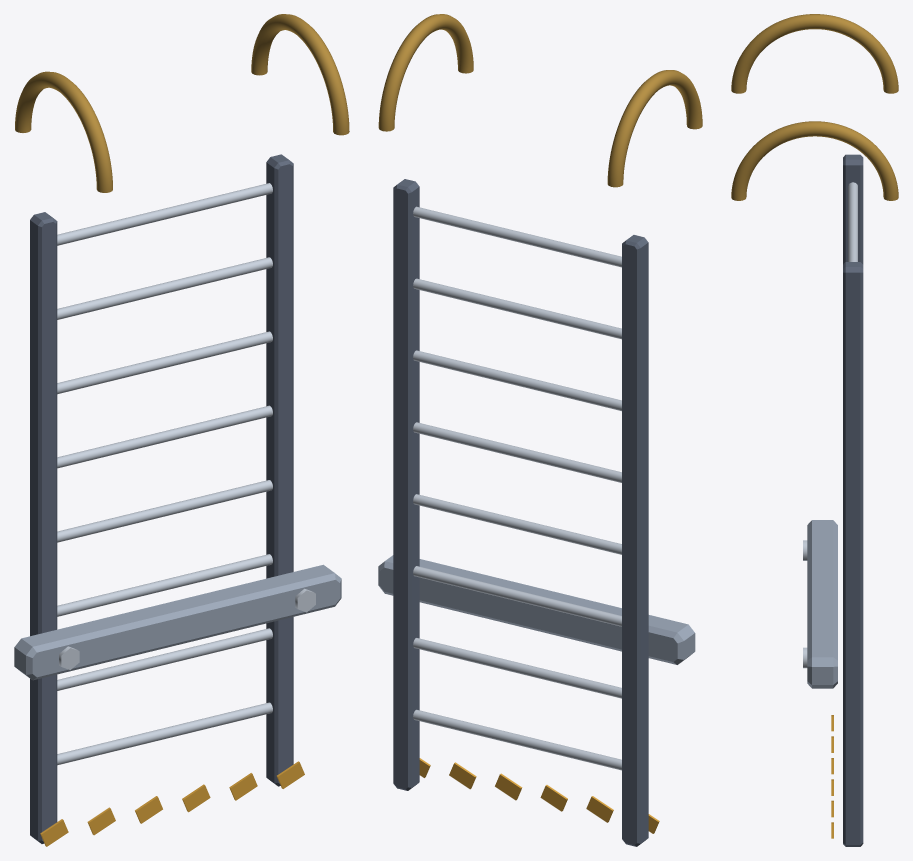
Rendered from shared_ladder_250.glb.
The picture shows the model from 3 angles, left to right: view 1: azimuth 30°, elevation 25°; view 2: azimuth 150°, elevation 25°; view 3: azimuth 270°, elevation 25°; orthographic projection. The views are drawn at different scales.
Visible parts, largest first — view 1: ladder_stringer-1, ladder_stringer1, ladder_flange0, ladder_hook1, ladder_hook-1, ladder_foot_hazard, ladder_rung4, ladder_rung2, ladder_rung3, ladder_rung7, ladder_rung0, ladder_rung1 (+3 smaller); view 2: ladder_stringer-1, ladder_stringer1, ladder_flange0, ladder_hook1, ladder_hook-1, ladder_rung2, ladder_rung0, ladder_rung1, ladder_rung3, ladder_rung7, ladder_rung6, ladder_rung4 (+2 smaller); view 3: ladder_stringer1, ladder_flange0, ladder_hook1, ladder_hook-1, ladder_stringer-1, ladder_rung7.
Boxes of the visible parts, x1=… form: ladder_stringer-1: x1=30, y1=212, x2=57, y2=843; ladder_stringer1: x1=266, y1=154, x2=293, y2=786; ladder_flange0: x1=14, y1=564, x2=341, y2=680; ladder_hook1: x1=251, y1=14, x2=349, y2=135; ladder_hook-1: x1=15, y1=71, x2=112, y2=192; ladder_foot_hazard: x1=40, y1=761, x2=304, y2=846; ladder_rung4: x1=57, y1=405, x2=272, y2=468; ladder_rung2: x1=57, y1=554, x2=272, y2=616; ladder_rung3: x1=57, y1=480, x2=272, y2=542; ladder_rung7: x1=57, y1=183, x2=272, y2=245; ladder_rung0: x1=57, y1=702, x2=272, y2=765; ladder_rung1: x1=57, y1=628, x2=272, y2=690; ladder_stringer-1: x1=622, y1=235, x2=648, y2=846; ladder_stringer1: x1=393, y1=179, x2=419, y2=790; ladder_flange0: x1=378, y1=555, x2=695, y2=664; ladder_hook1: x1=378, y1=14, x2=473, y2=131; ladder_hook-1: x1=607, y1=70, x2=702, y2=187; ladder_rung2: x1=413, y1=566, x2=621, y2=626; ladder_rung0: x1=413, y1=709, x2=621, y2=770; ladder_rung1: x1=413, y1=638, x2=621, y2=698; ladder_rung3: x1=413, y1=494, x2=621, y2=554; ladder_rung7: x1=413, y1=206, x2=621, y2=267; ladder_rung6: x1=413, y1=278, x2=621, y2=339; ladder_rung4: x1=413, y1=422, x2=621, y2=482; ladder_stringer1: x1=843, y1=262, x2=863, y2=846; ladder_flange0: x1=807, y1=520, x2=837, y2=688; ladder_hook1: x1=731, y1=121, x2=898, y2=200; ladder_hook-1: x1=731, y1=14, x2=898, y2=93; ladder_stringer-1: x1=843, y1=154, x2=863, y2=264; ladder_rung7: x1=848, y1=182, x2=857, y2=261.
Bounding box in the file's own units: 1.34 × 3.14 × 0.66.
